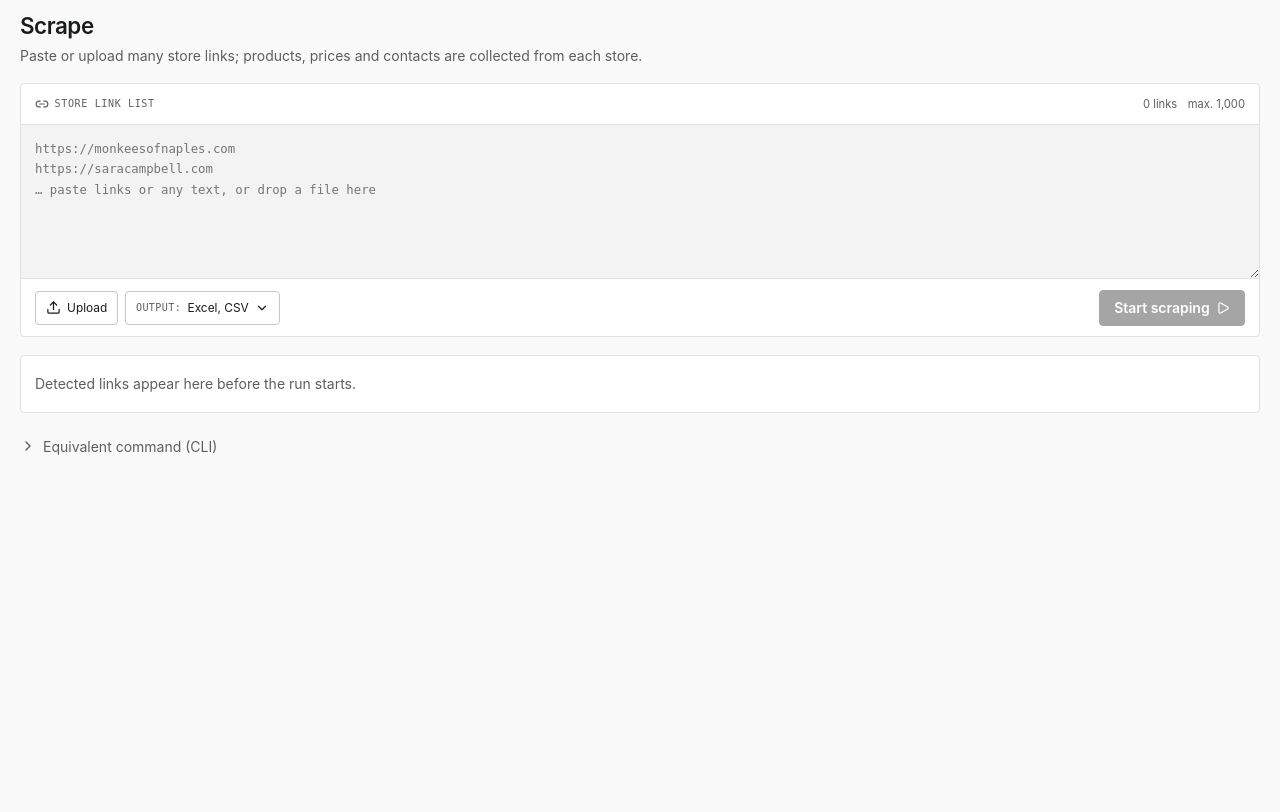
Test case: Scrape › shows the server's explanation when a run cannot start
This screenshot has width=1280, height=812.
In the text box named "Store links": point(640, 202) [21,125,1259,279], type "a.com"
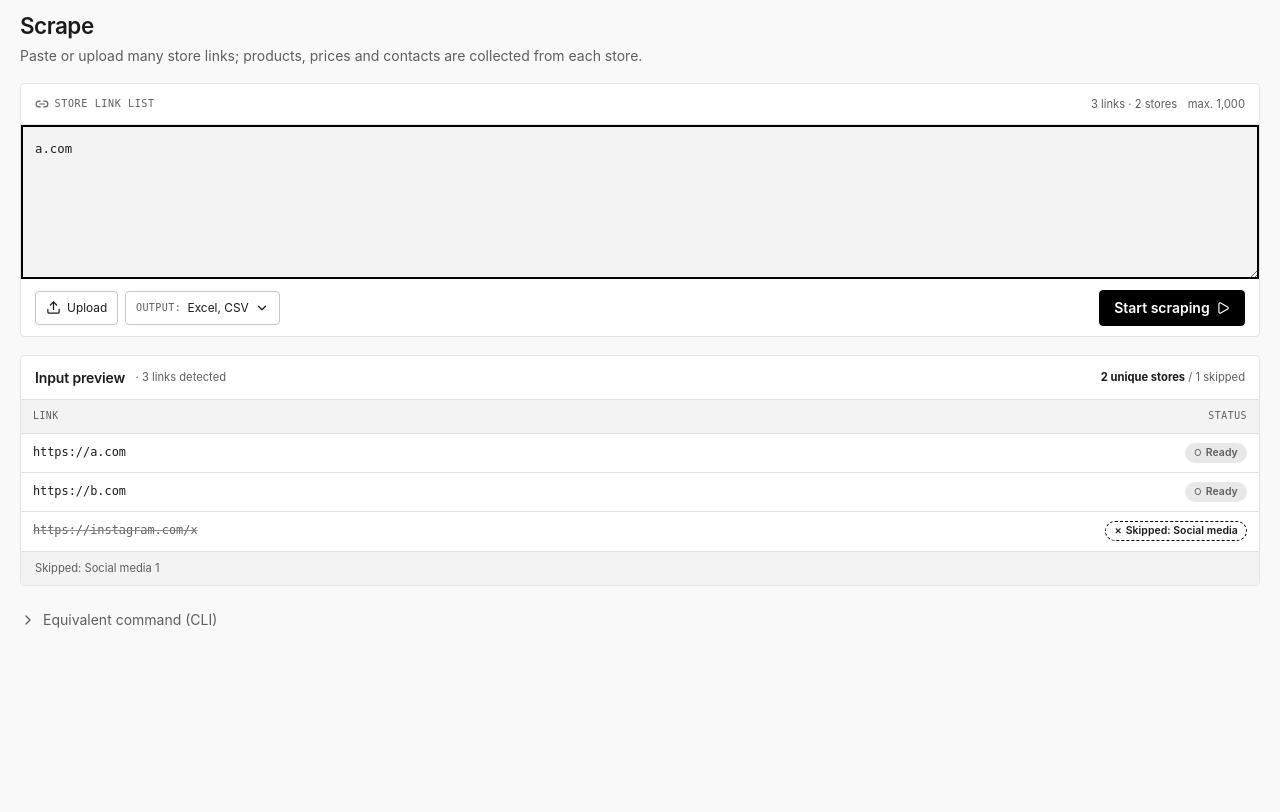
expect the button "Start scraping" is enabled: met
Click the button "Start scraping": point(1172, 308) [1099,290,1245,326]
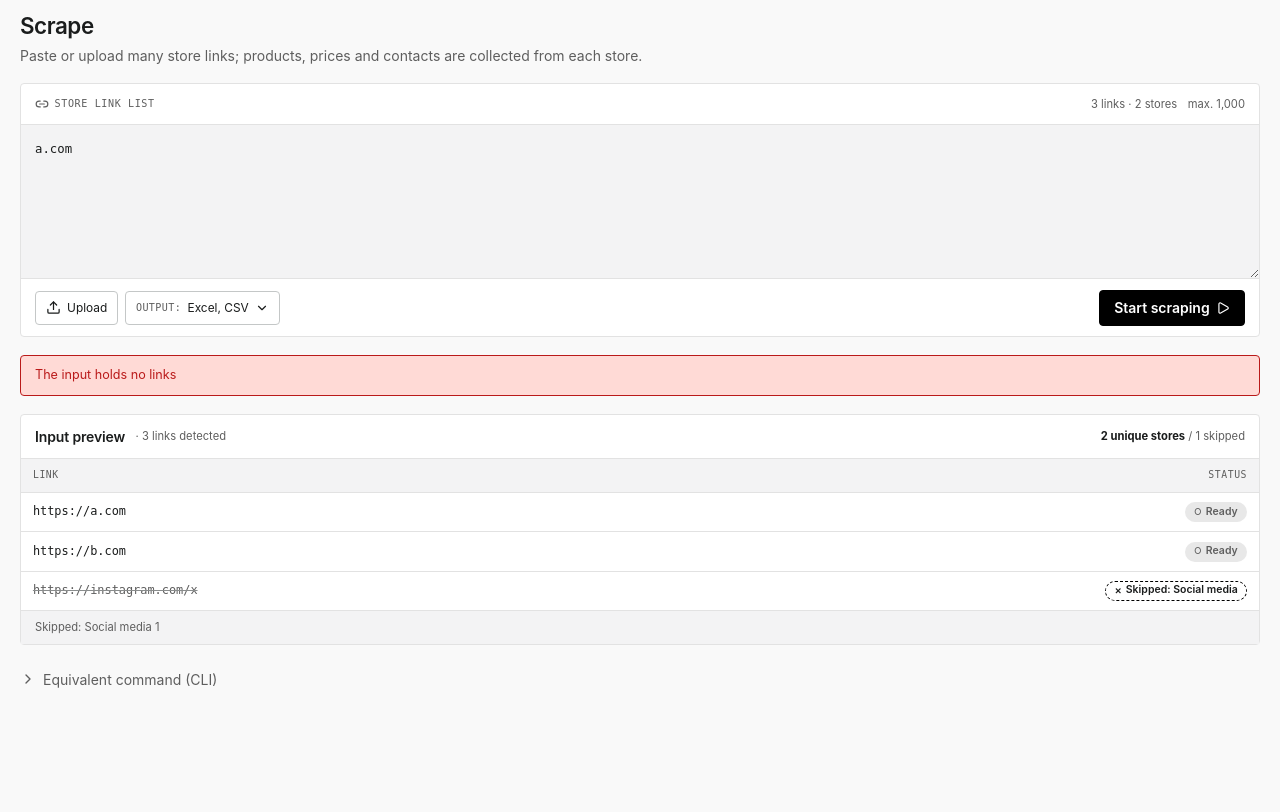
expect the message reads "The input holds no links": met, box [35,367,176,382]
